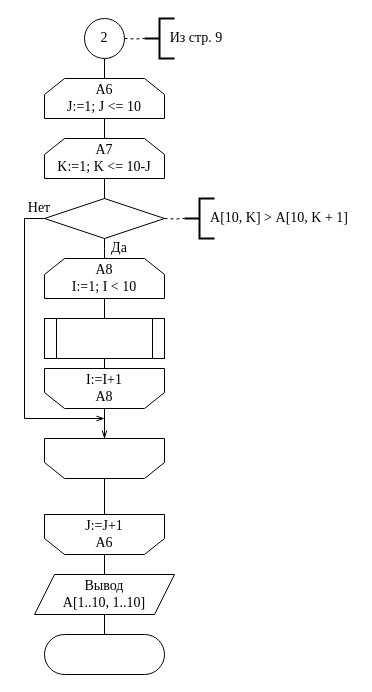
Some shapes in this 372 by 692 pixel diagram are drawn without their labels. Here are the shapes that lost their labels. From the top down, the centre of each, then its label:
At point 104,338: "Swap(A[I, K], A[I, K + 1])".
At point 104,458: "K:=K+1 А7".
At point 104,654: "Выход".
